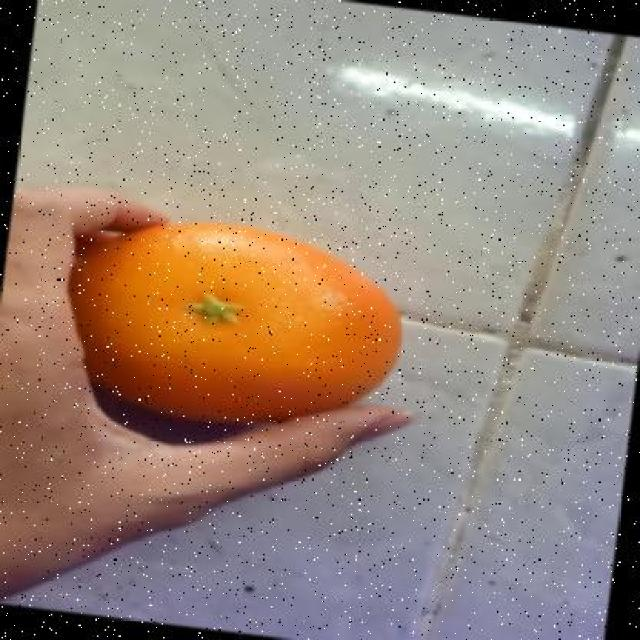Orange: (66, 217, 402, 426)
